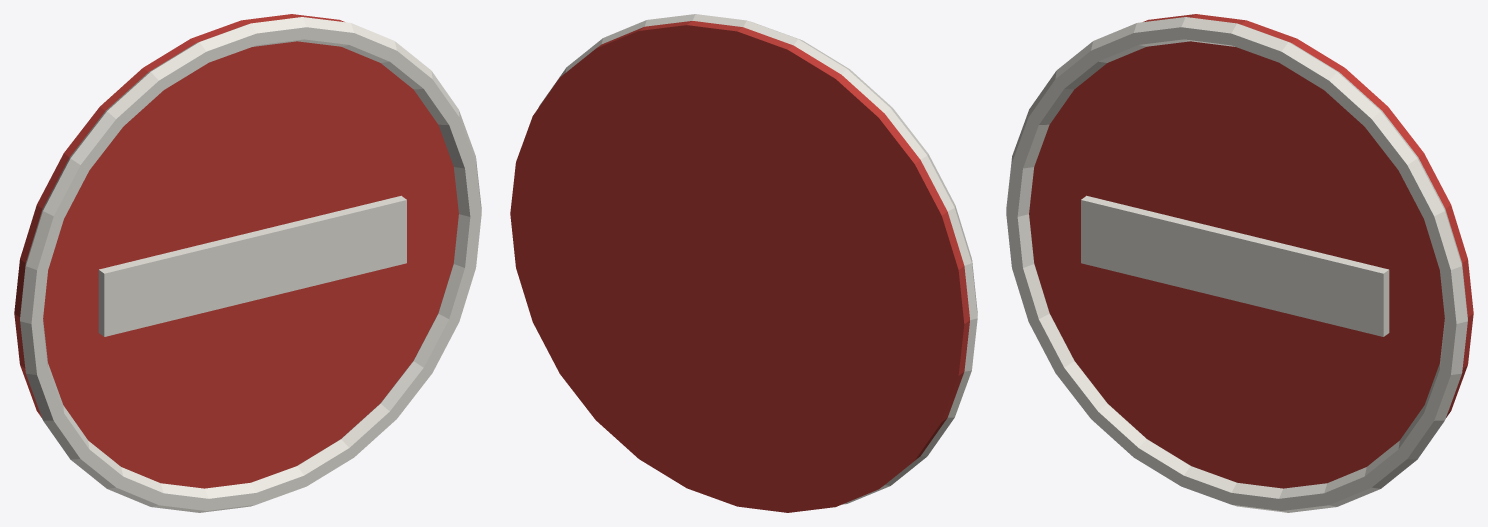
Rendered from sign_no_entry.glb.
3 views of the same model, side by side, from view 1: azimuth 30°, elevation 25°; view 2: azimuth 150°, elevation 25°; view 3: azimuth 330°, elevation 25° (orthographic).
Visible parts, largest first — view 1: sign_no_entry; view 2: sign_no_entry; view 3: sign_no_entry.
Part boxes in pixels (bbox=[...]): sign_no_entry: bbox=[14, 14, 481, 512]; sign_no_entry: bbox=[510, 14, 977, 512]; sign_no_entry: bbox=[1006, 14, 1473, 512].
Size of the model in its own units: 0.61 by 0.61 by 0.035.
